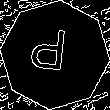P_S: (34, 28, 76, 82)
